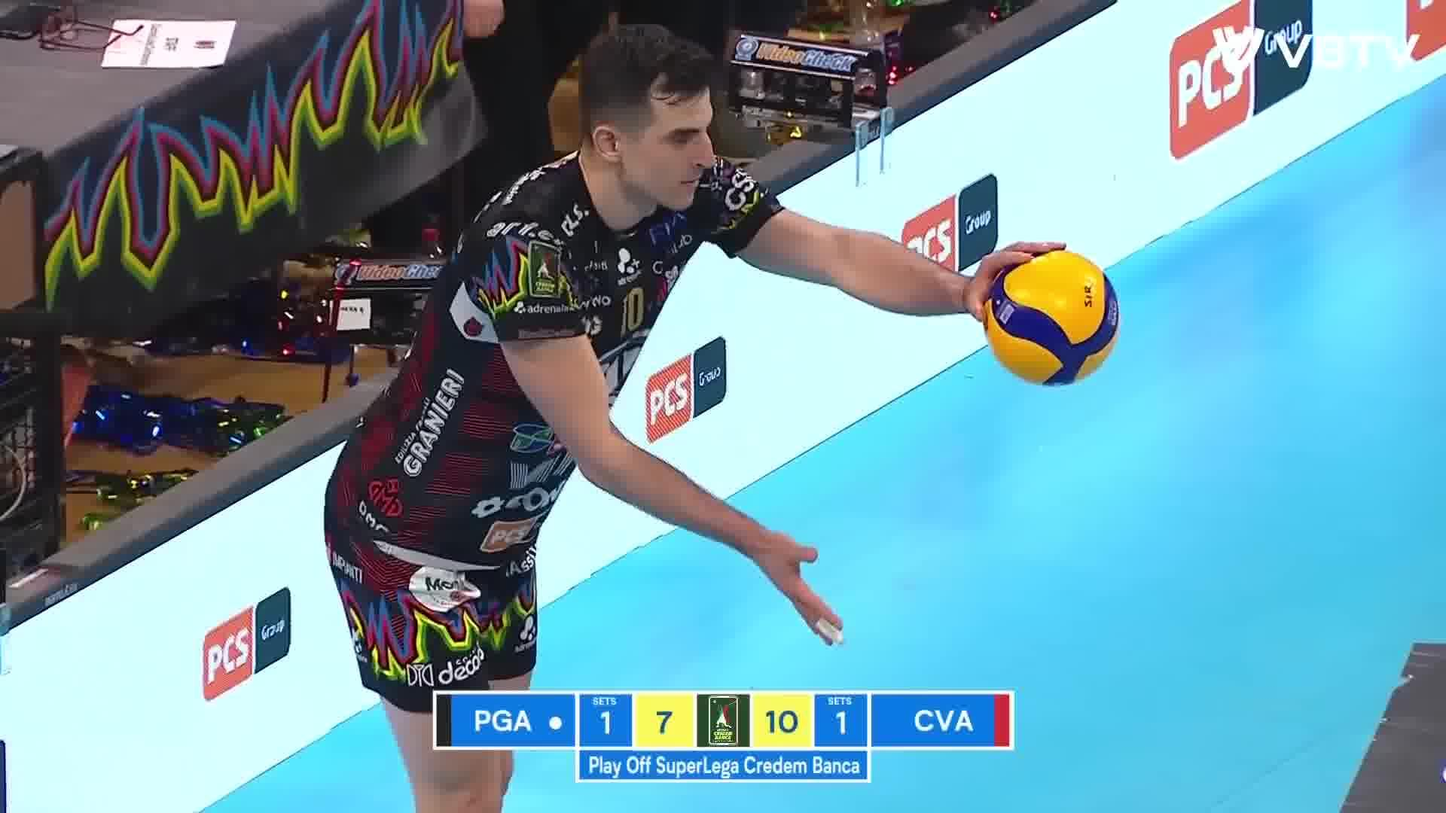balls: (984, 249, 1123, 389)
